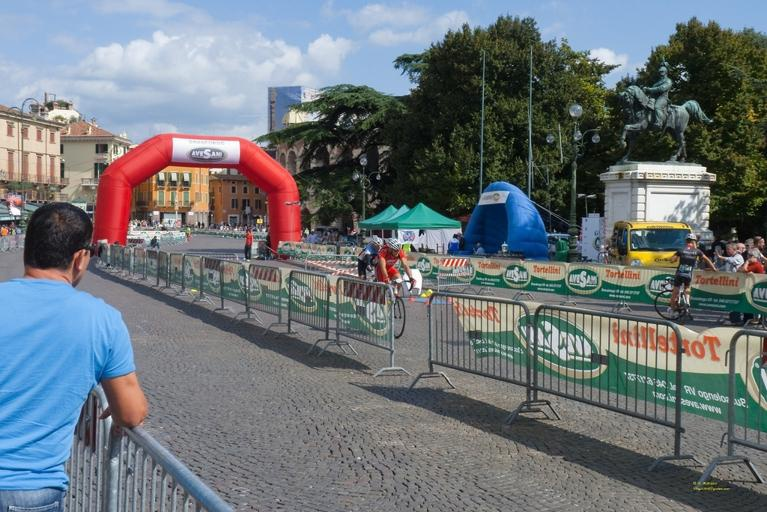non-vehicle: (653, 273, 693, 325), (388, 277, 414, 339)
